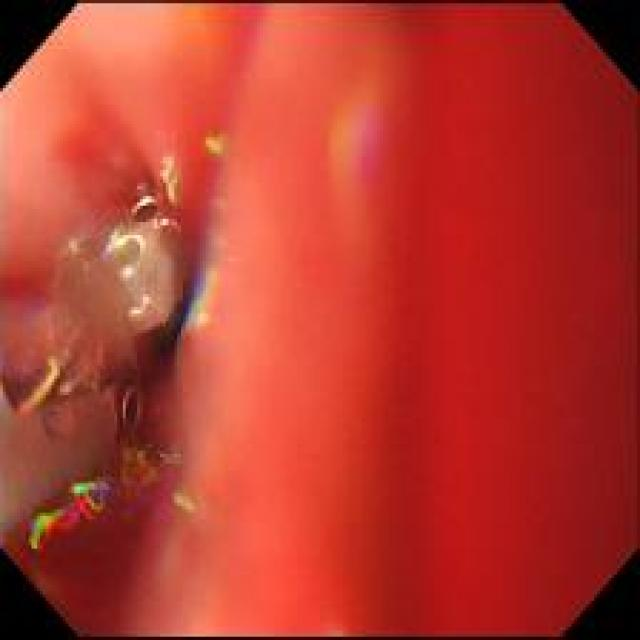color misalignment: (266, 10, 635, 630), (30, 481, 109, 555), (181, 245, 213, 337), (116, 443, 160, 505), (40, 337, 70, 376), (206, 132, 230, 156), (174, 496, 190, 514), (17, 403, 30, 415)
instrument: (2, 198, 186, 549)
specularity: (122, 232, 146, 257), (121, 266, 134, 279)
